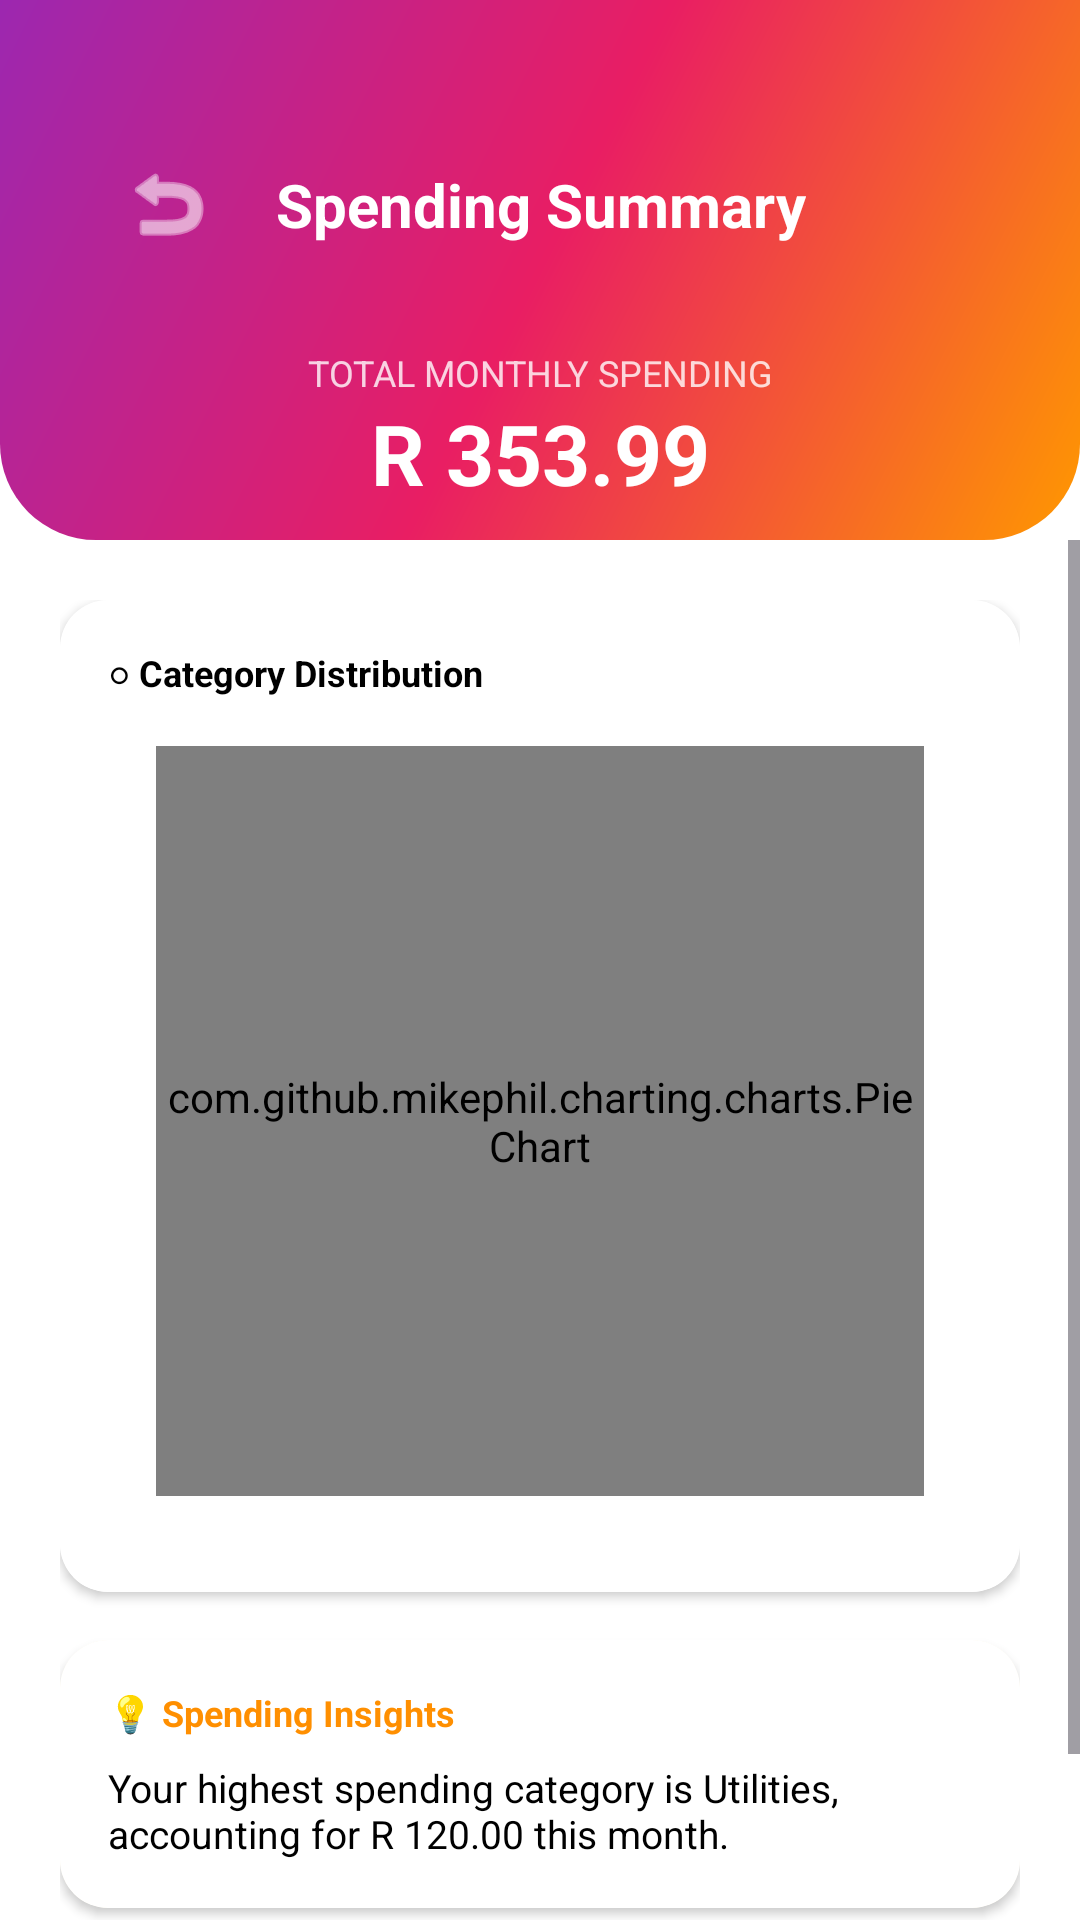

Screen size 1080 × 1920. Icon name, then its center in pixels as [x,y]:
revert: [169,204]
